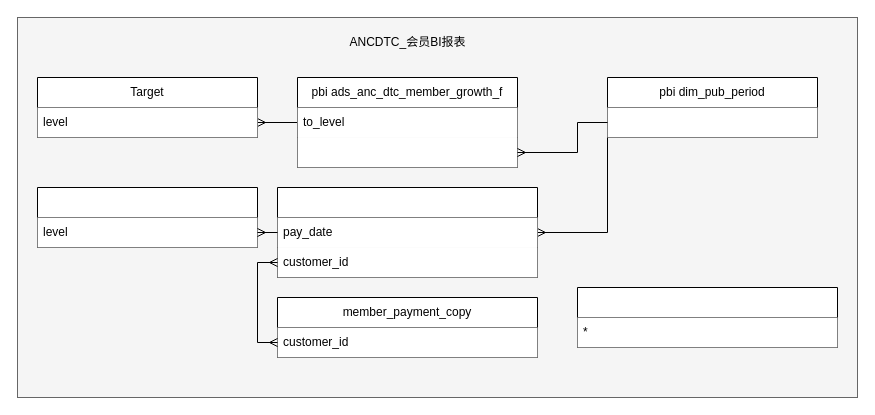
This 875x415 diagram has some shape labels left out. The box of each missing label's shape, as (x1, y1, x2, y2) in pixels:
createdat: (297, 137, 517, 167)
date_dt: (607, 107, 817, 137)
pbi ads_anc_dtc_member_detail_f: (576, 286, 838, 348)
pbi ads_anc_dtc_member_payment_behavior_f: (276, 186, 538, 278)
Target1: (36, 186, 258, 248)
